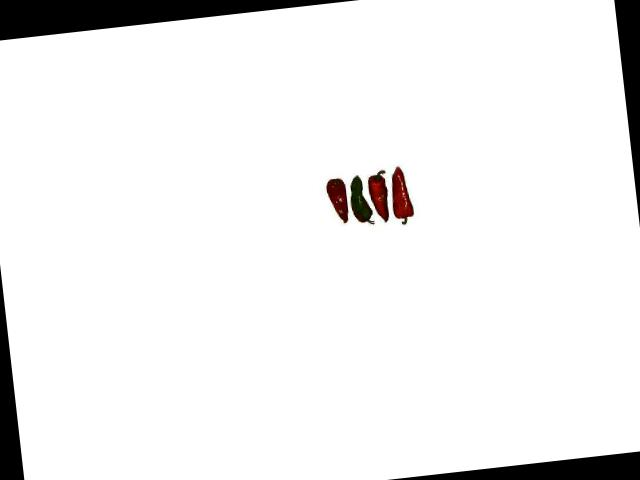bell_pepper: (320, 176, 351, 229)
